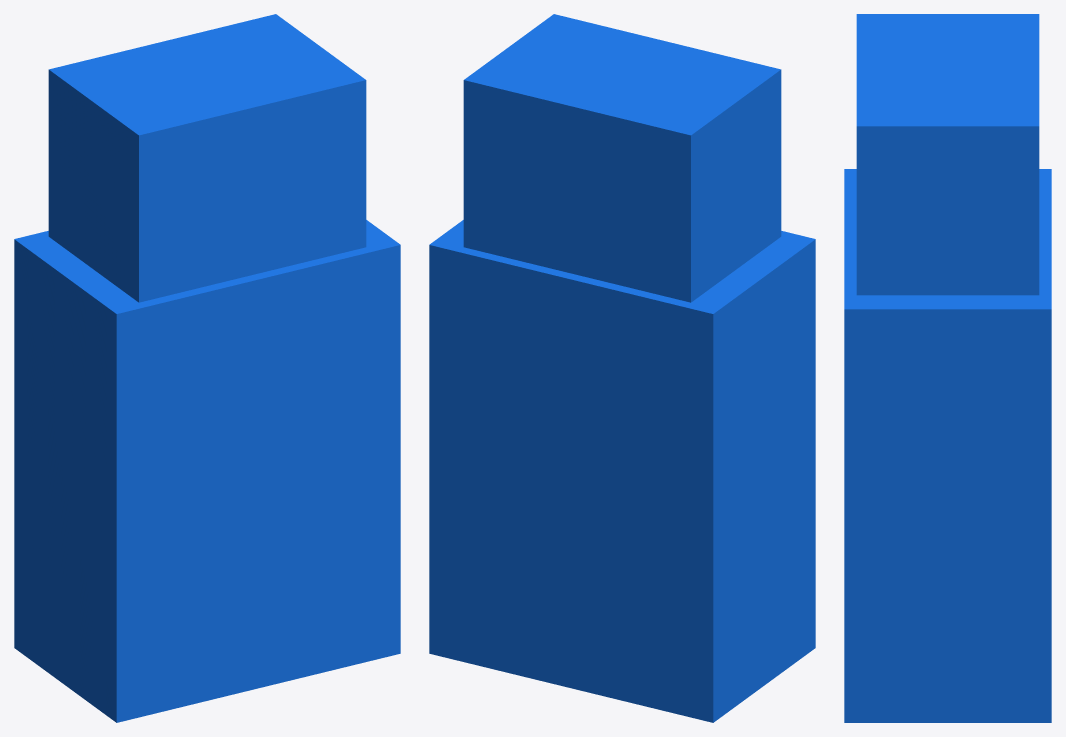
The model's file is BlenderRobotGuard.obj.
The picture shows the model from 3 angles, left to right: view 1: azimuth 30°, elevation 25°; view 2: azimuth 150°, elevation 25°; view 3: azimuth 270°, elevation 25°; orthographic projection.
Visible parts, largest first — view 1: BlenderRobotGuard; view 2: BlenderRobotGuard; view 3: BlenderRobotGuard.
Part boxes in pixels (<box>): BlenderRobotGuard: <box>14,14,400,722</box>; BlenderRobotGuard: <box>429,14,815,722</box>; BlenderRobotGuard: <box>844,14,1051,722</box>.
Size of the model in its own units: 0.8 by 1.55 by 0.5.
